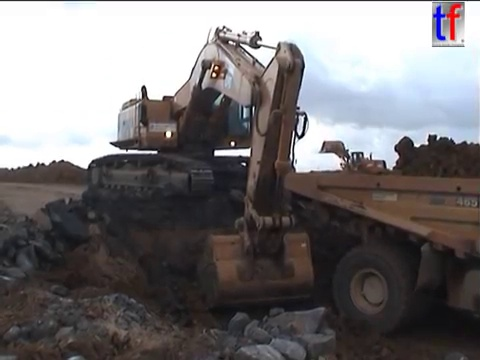excavator: (84, 22, 318, 313)
truck: (276, 168, 480, 338)
wheel loader: (314, 138, 392, 187)
